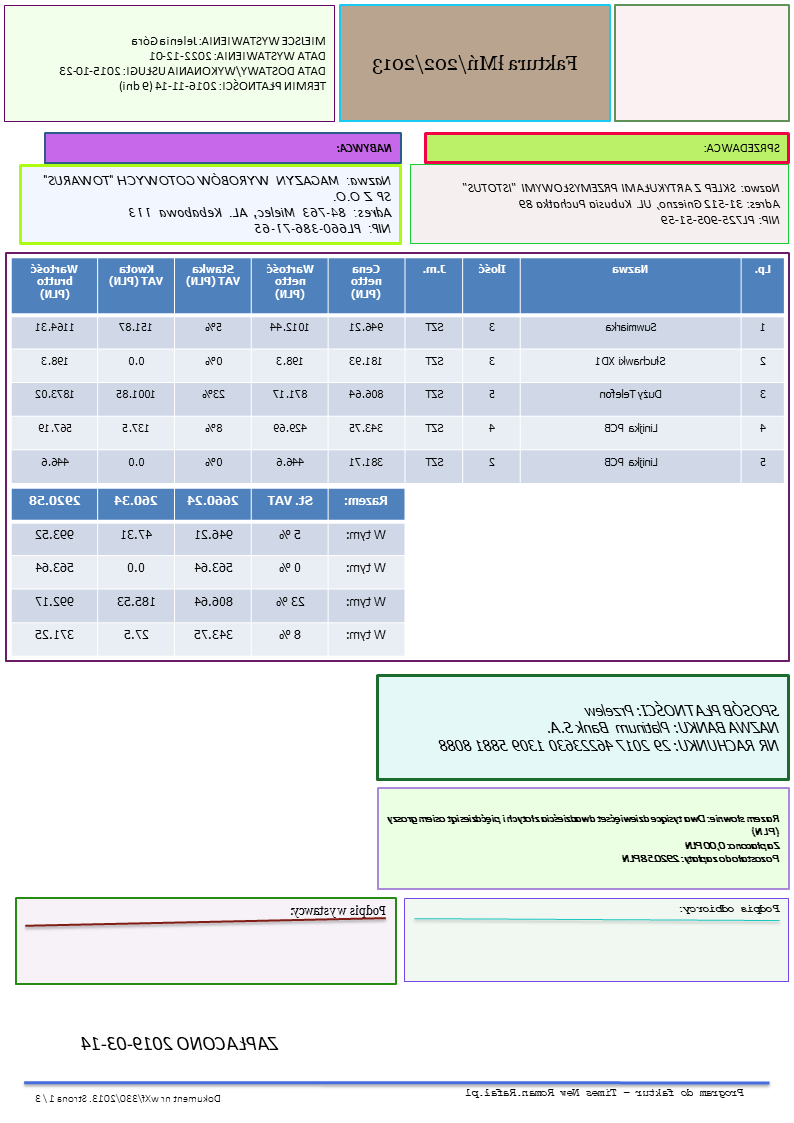Table: (12, 256, 786, 486), (11, 486, 406, 656)
TextBox: (42, 172, 394, 235), (385, 812, 782, 866), (437, 698, 782, 754), (57, 32, 329, 95), (460, 180, 783, 227), (372, 51, 581, 78), (80, 1032, 281, 1053), (465, 1086, 745, 1101), (33, 1091, 224, 1105), (289, 902, 387, 921), (679, 902, 783, 917), (704, 140, 782, 155), (336, 140, 394, 156)
